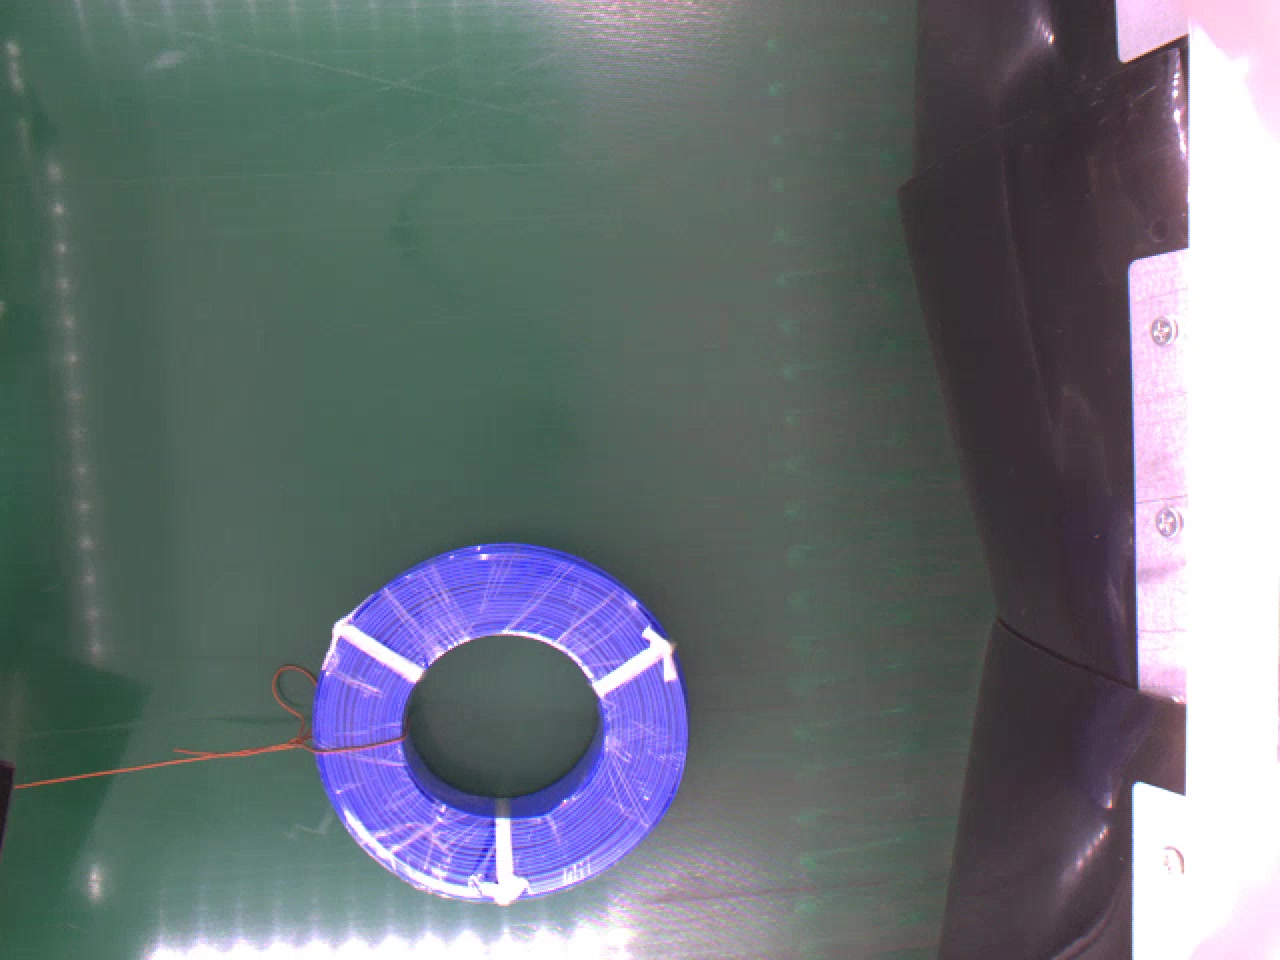blue: (306, 532, 689, 904)
